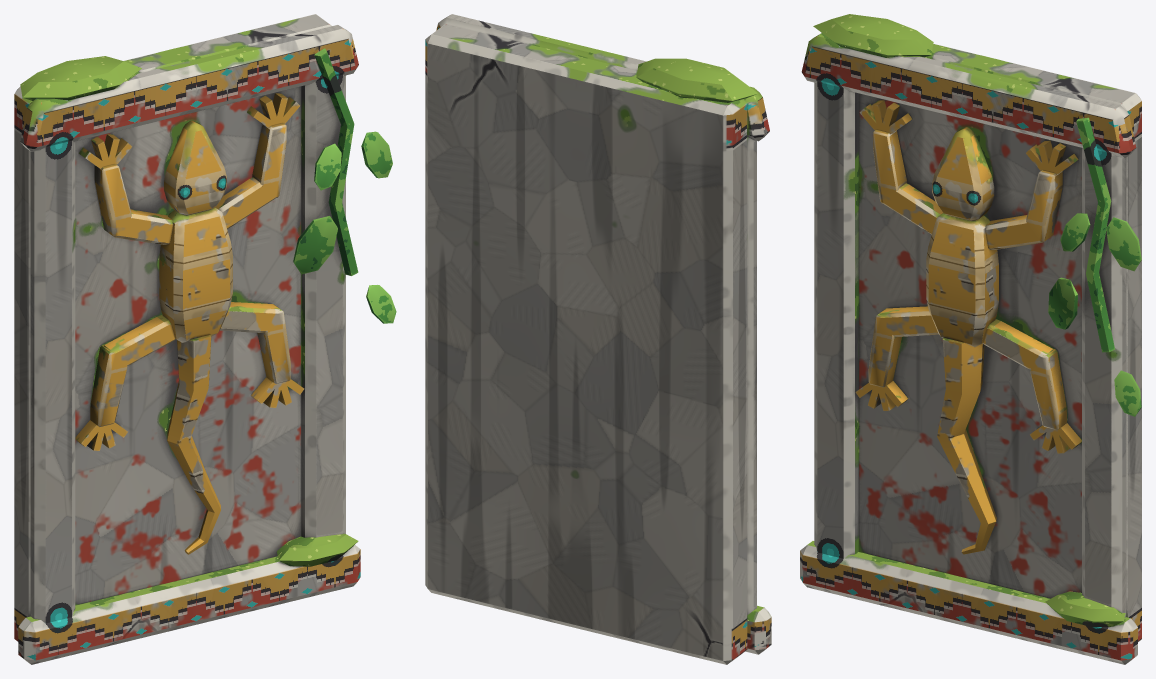
Rendered from bulul_lizard.glb.
The picture shows the model from 3 angles, left to right: view 1: azimuth 30°, elevation 25°; view 2: azimuth 150°, elevation 25°; view 3: azimuth 330°, elevation 25°; orthographic projection.
Visible parts, largest first — view 1: bulul_lizard; view 2: bulul_lizard; view 3: bulul_lizard.
Part boxes in pixels (x1,y1,x2,y2): bulul_lizard: (14,14,396,664); bulul_lizard: (425,14,771,664); bulul_lizard: (800,14,1141,664).
Bounding box in the file's own units: 1.75 × 2.69 × 0.3839.
Materials: 1 (1 with a texture image).
